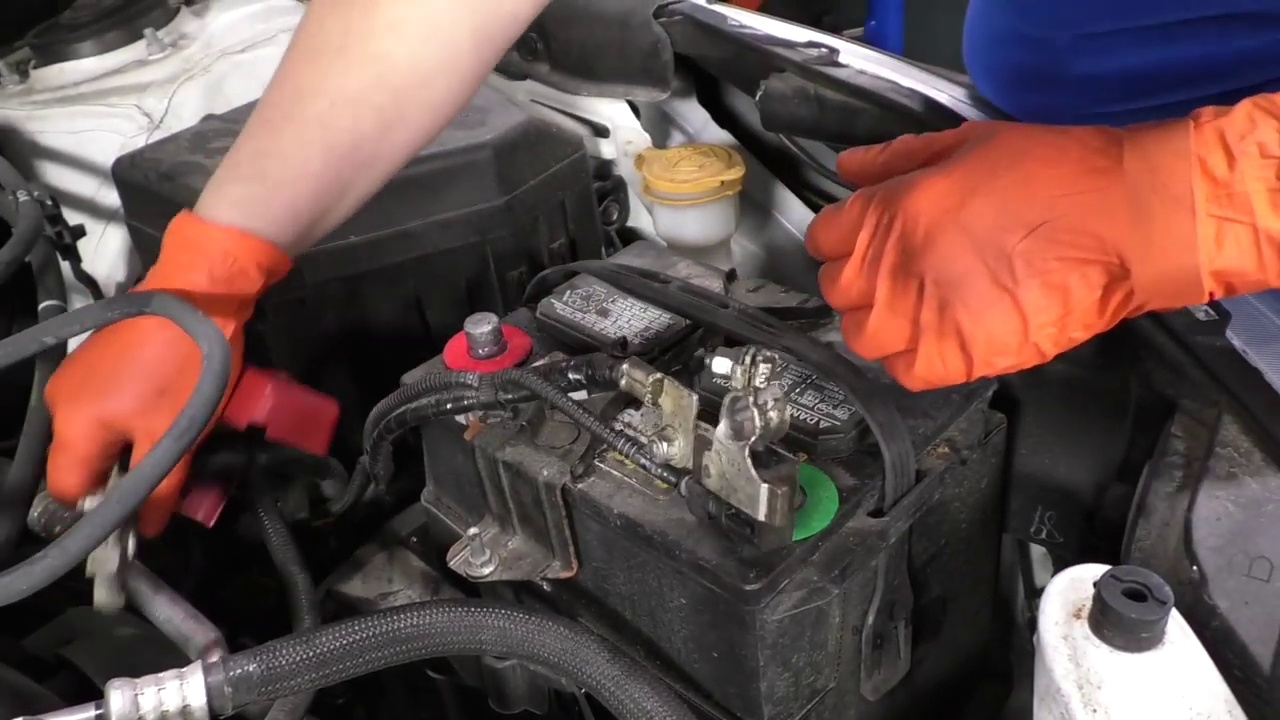battery: (395, 227, 1005, 563)
pos_disconnected: (396, 268, 538, 397)
